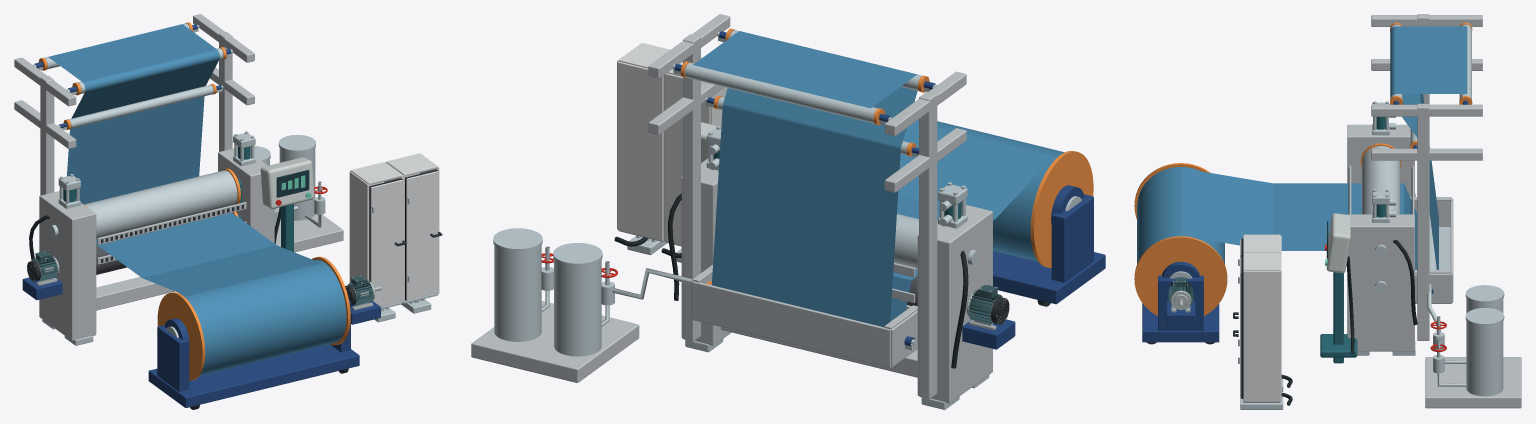
Rendered from dyeing.glb.
The picture shows the model from 3 angles, left to right: view 1: azimuth 30°, elevation 25°; view 2: azimuth 150°, elevation 25°; view 3: azimuth 270°, elevation 25°; orthographic projection. The views are drawn at different scales.
Visible parts, largest first — view 1: fabric_web, 染色卷装_drum, f3_frame, f3_frame.013, DyePad泳动工作辊_drum.001, f3_door.001, f3_door, f3_frame.002, f3_case_wall.002, 染色卷装_end, f3_frame.014, operator_console (+20 smaller); view 2: fabric_web, f3_frame, f3_case_rear, f3_case_rear.002, f3_frame.001, f3_frame.012, f3_frame.003, f3_mix_tank, f3_mix_tank.001, 染色卷装_drum, f3_frame.013, 染色卷装_end (+17 smaller); view 3: fabric_web, f3_frame.002, f3_case_wall.005, 染色卷装_end.001, f3_frame.012, 染色卷装_drum, f3_frame.003, f3_mix_tank.001, f3_frame, DyePad泳动工作辊_drum.001, f3_frame.013, f3_frame.005 (+21 smaller).
Part boxes in pixels (box(x1,y1,x2,y2)): fabric_web: box(48, 24, 320, 295); 染色卷装_drum: box(179, 260, 346, 375); f3_frame: box(39, 191, 96, 340); f3_frame.013: box(148, 344, 359, 407); DyePad泳动工作辊_drum.001: box(84, 170, 237, 239); f3_door.001: box(406, 171, 438, 300); f3_door: box(370, 180, 402, 306); f3_frame.002: box(218, 148, 274, 243); f3_case_wall.002: box(349, 171, 369, 282); 染色卷装_end: box(157, 292, 205, 380); f3_frame.014: box(157, 325, 189, 391); operator_console: box(260, 157, 314, 208); fabric_web: box(693, 31, 1054, 327); f3_frame: box(917, 205, 992, 403); f3_case_rear: box(692, 281, 890, 367); f3_case_rear.002: box(617, 61, 663, 240); f3_frame.001: box(919, 92, 937, 399); f3_frame.012: box(471, 301, 639, 382); f3_frame.003: box(683, 34, 700, 341); f3_mix_tank: box(554, 260, 601, 356); f3_mix_tank.001: box(494, 245, 541, 341); 染色卷装_drum: box(915, 119, 1064, 261); f3_frame.013: box(993, 250, 1105, 304); 染色卷装_end: box(1030, 150, 1093, 268); fabric_web: box(1181, 26, 1467, 269); f3_frame.002: box(1347, 214, 1414, 351); f3_case_wall.005: box(1243, 270, 1280, 402); 染色卷装_end.001: box(1134, 236, 1227, 315); f3_frame.012: box(1425, 357, 1521, 408); 染色卷装_drum: box(1137, 167, 1224, 264); f3_frame.003: box(1417, 103, 1429, 340); f3_mix_tank.001: box(1466, 321, 1503, 396); f3_frame: box(1347, 124, 1414, 196); DyePad泳动工作辊_drum.001: box(1361, 146, 1400, 214); f3_frame.013: box(1142, 303, 1219, 342); f3_frame.005: box(1371, 104, 1482, 116).
Size of the model in its own units: 5.31 by 3.53 by 5.03.
